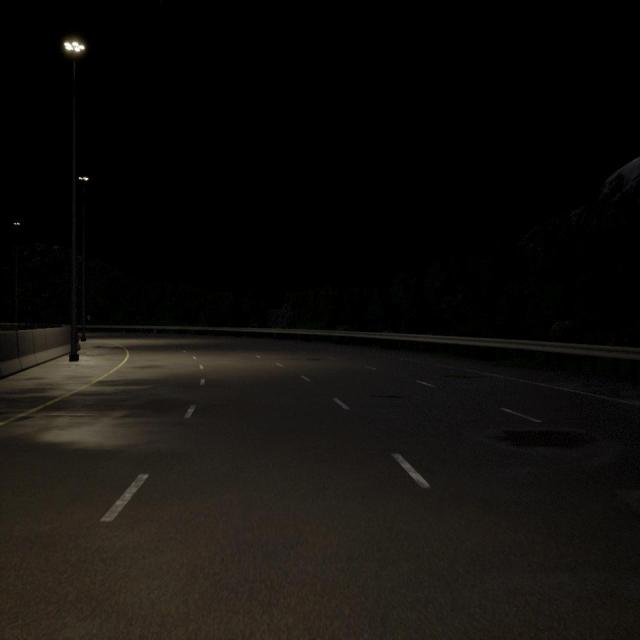Traffic_Signs: (87, 315, 91, 320)
